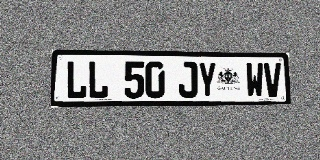0: (145, 61, 165, 98)
5: (124, 61, 144, 99)
J: (178, 62, 197, 98)
L: (66, 60, 87, 99), (87, 61, 108, 99)
V: (264, 63, 282, 97)
W: (246, 62, 264, 97)
Y: (198, 62, 217, 98)
